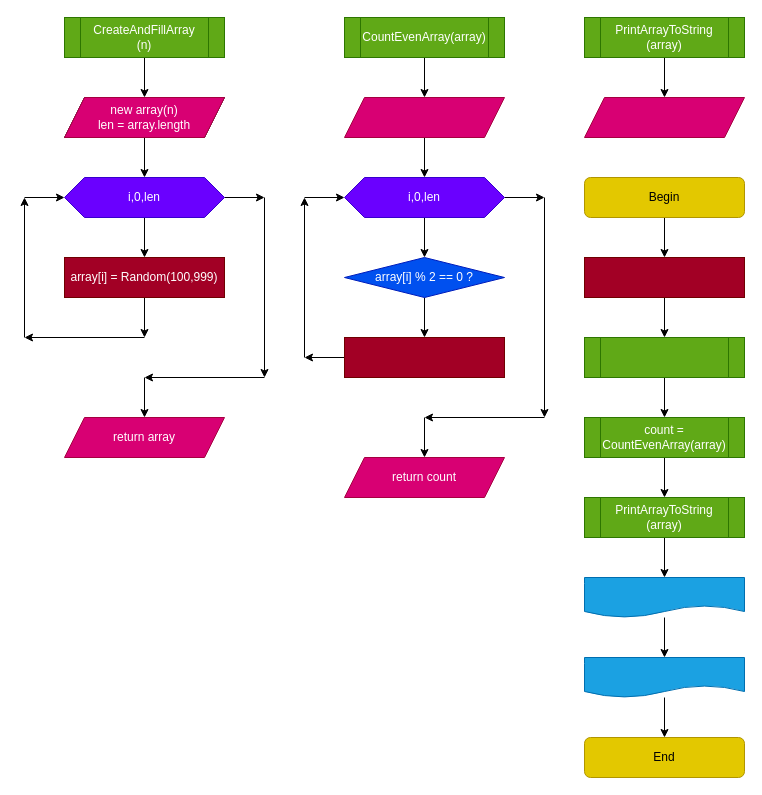
The diagram is 762 pixels wide and 795 high, and some of its shapes have lost their labels. The centre of each missing label's shape, as x and y in pixels:
array: (x=664, y=597)
array = CreateAndFillArray (n): (x=664, y=357)
count: (x=664, y=677)
count++: (x=424, y=357)
len = array.length count = 0: (x=424, y=117)
n = 7, count = 0: (x=664, y=277)
return string: (x=664, y=117)
